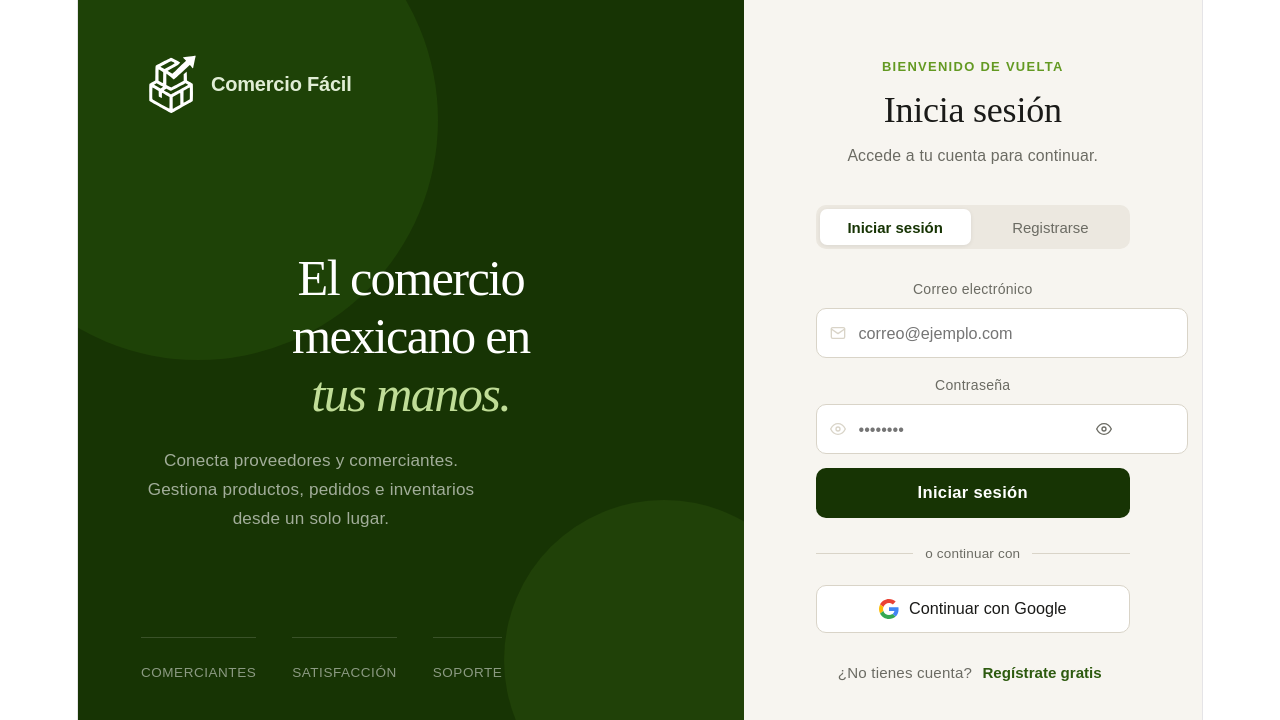
AuthPage — Registro › muestra campo de nombre al cambiar a registro
Click the button "Registrarse" at {"x": 1050, "y": 227}, box x1=975 y1=209 x2=1126 y2=245
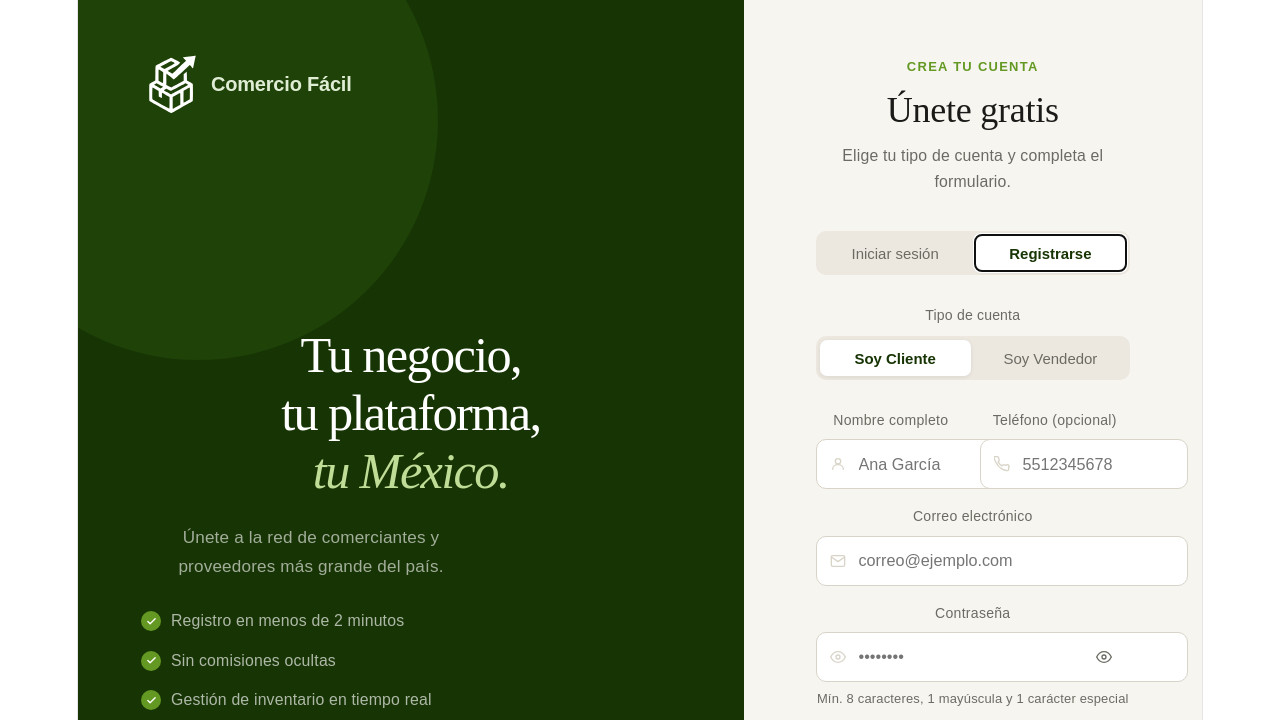
Check: the field with placeholder "Ana García" is shown, box x1=816 y1=440 x2=1024 y2=490
